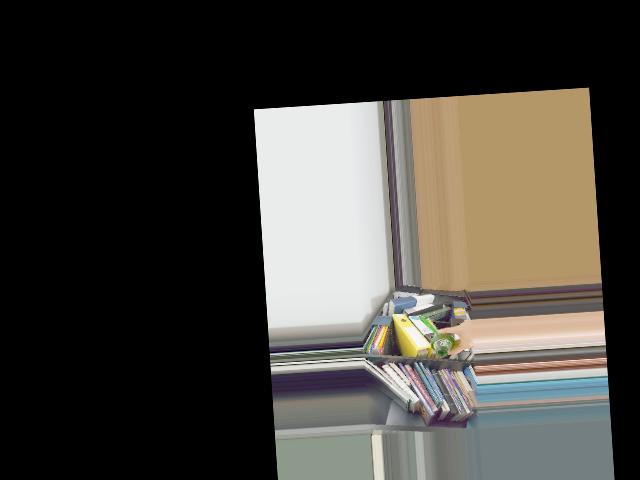beer: (430, 330, 455, 356)
